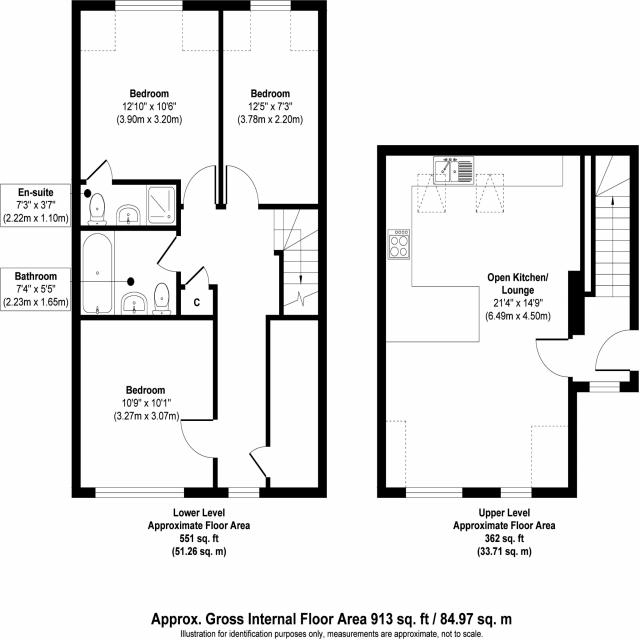DOOR: (532, 331, 585, 382), (593, 326, 639, 373), (176, 415, 218, 462), (181, 162, 218, 210), (224, 163, 261, 209), (155, 228, 182, 274), (177, 260, 212, 290), (245, 444, 270, 483), (81, 158, 114, 185)
ROOM: (378, 145, 596, 498), (71, 0, 224, 235), (71, 315, 217, 498), (218, 0, 327, 210), (242, 315, 327, 498)
WINDOW: (93, 484, 188, 501), (405, 484, 464, 500), (115, 0, 184, 12), (250, 0, 292, 12), (499, 485, 533, 499), (227, 486, 260, 499)
